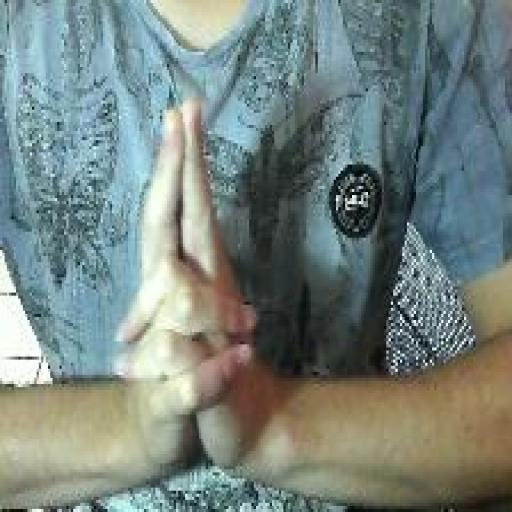Tora -tiger-: (108, 94, 262, 488)
